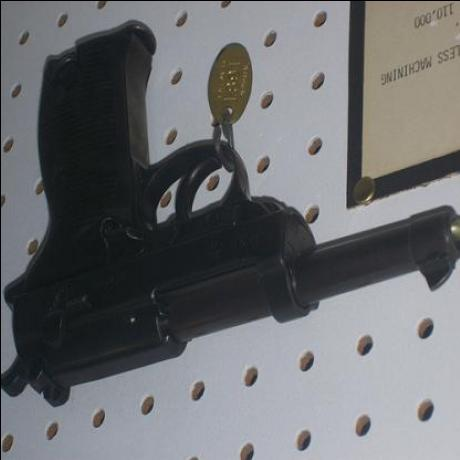weapon: (0, 22, 460, 416)
